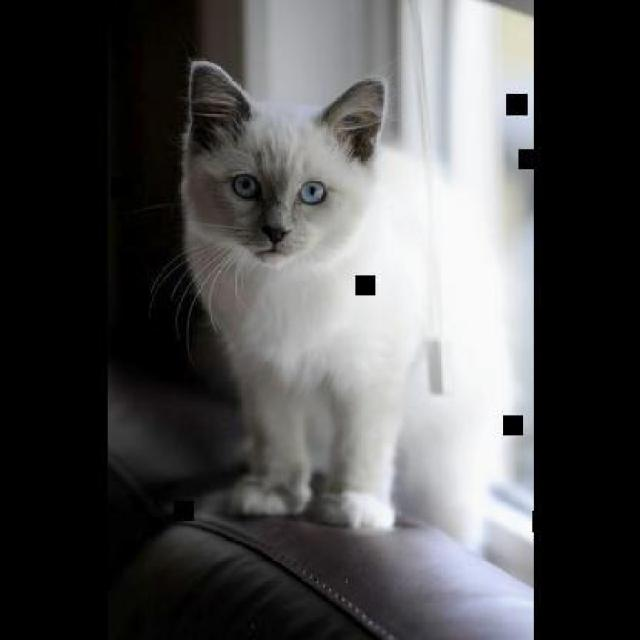unauthorized: (149, 57, 428, 531)
